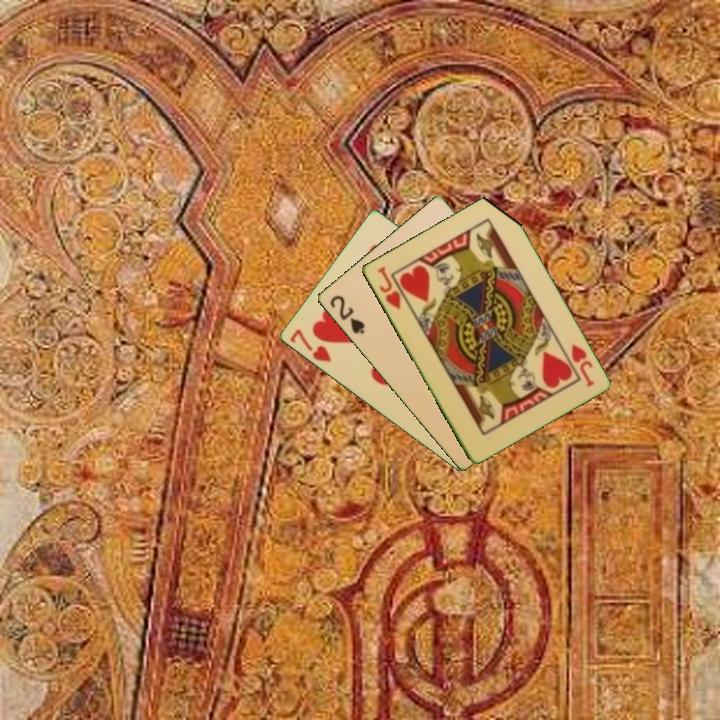2s: (326, 292, 367, 337)
7h: (286, 325, 334, 365)
Jh: (373, 263, 403, 312), (567, 341, 597, 390)
